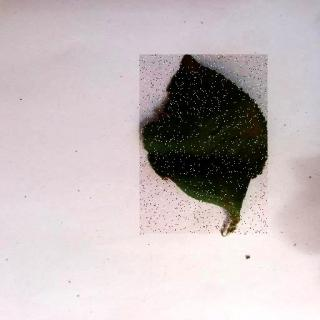Algal Leaf: (141, 56, 269, 236)
